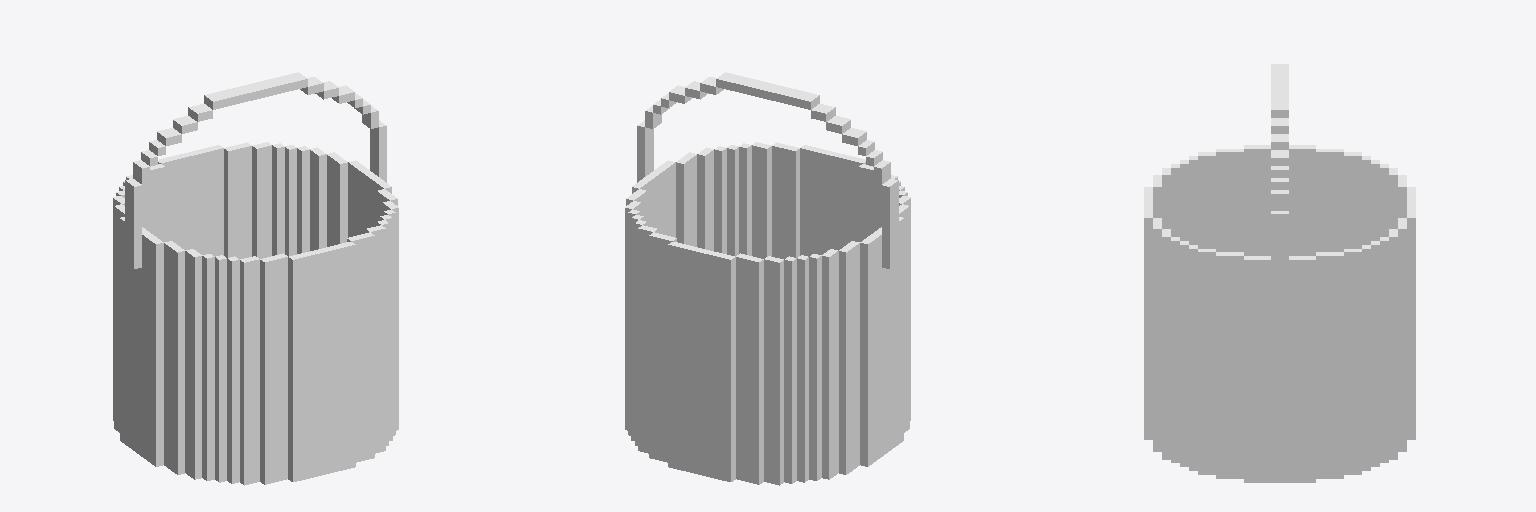
Rendered from Balde.obj.
3 renders of one model, left to right at view 1: azimuth 30°, elevation 25°; view 2: azimuth 150°, elevation 25°; view 3: azimuth 270°, elevation 25°, orthographic.
Visible parts, largest first — view 1: object 1; view 2: object 1; view 3: object 1.
Boxes of the visible parts, x1=… form: object 1: x1=113, y1=72, x2=398, y2=485; object 1: x1=625, y1=72, x2=910, y2=485; object 1: x1=1144, y1=64, x2=1415, y2=482.
Size of the model in its own units: 3.2 by 4.1 by 3.